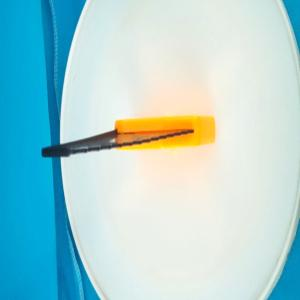serrote: (41, 115, 216, 158)
